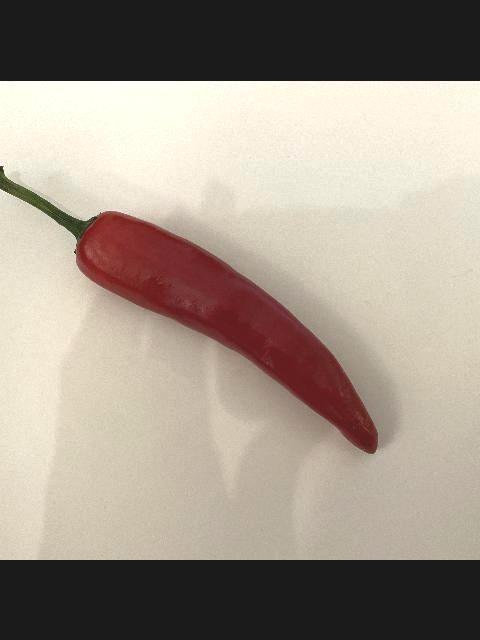chilli: (0, 165, 380, 453)
